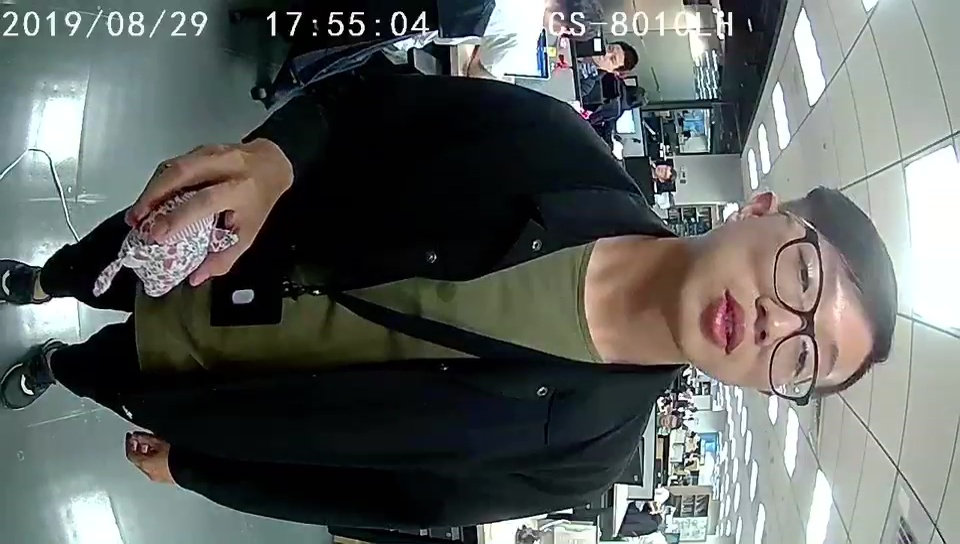pig: (122, 188, 238, 296)
